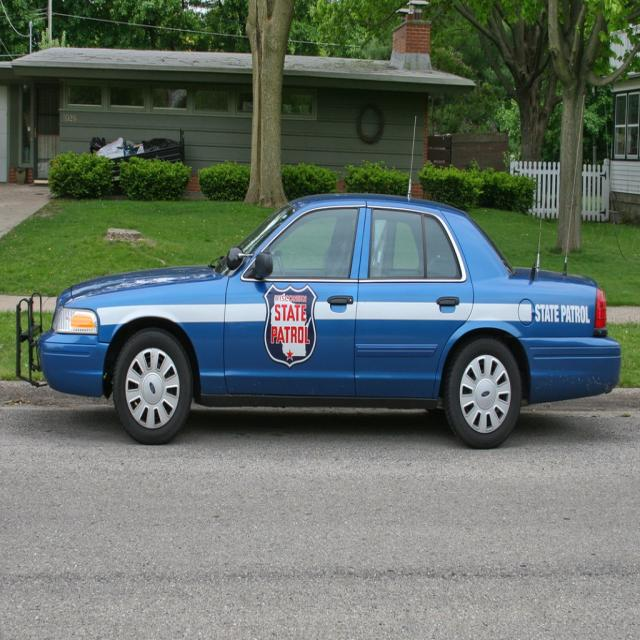car: (40, 191, 622, 455)
